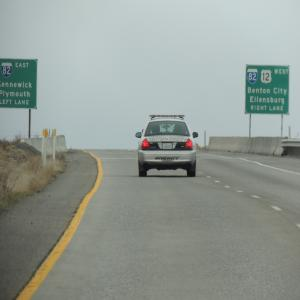Vehicle-registration-plate: (163, 143, 174, 150)
